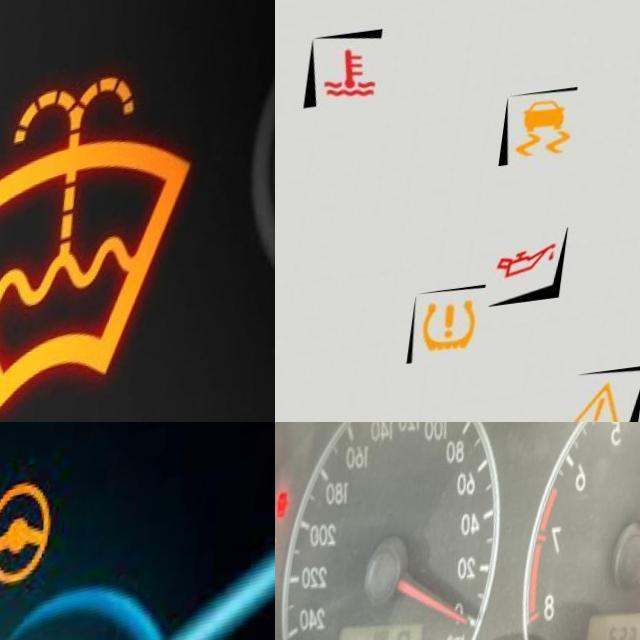Electronic Power Steering: (0, 483, 70, 609)
Washer Fluid: (0, 77, 209, 422)
